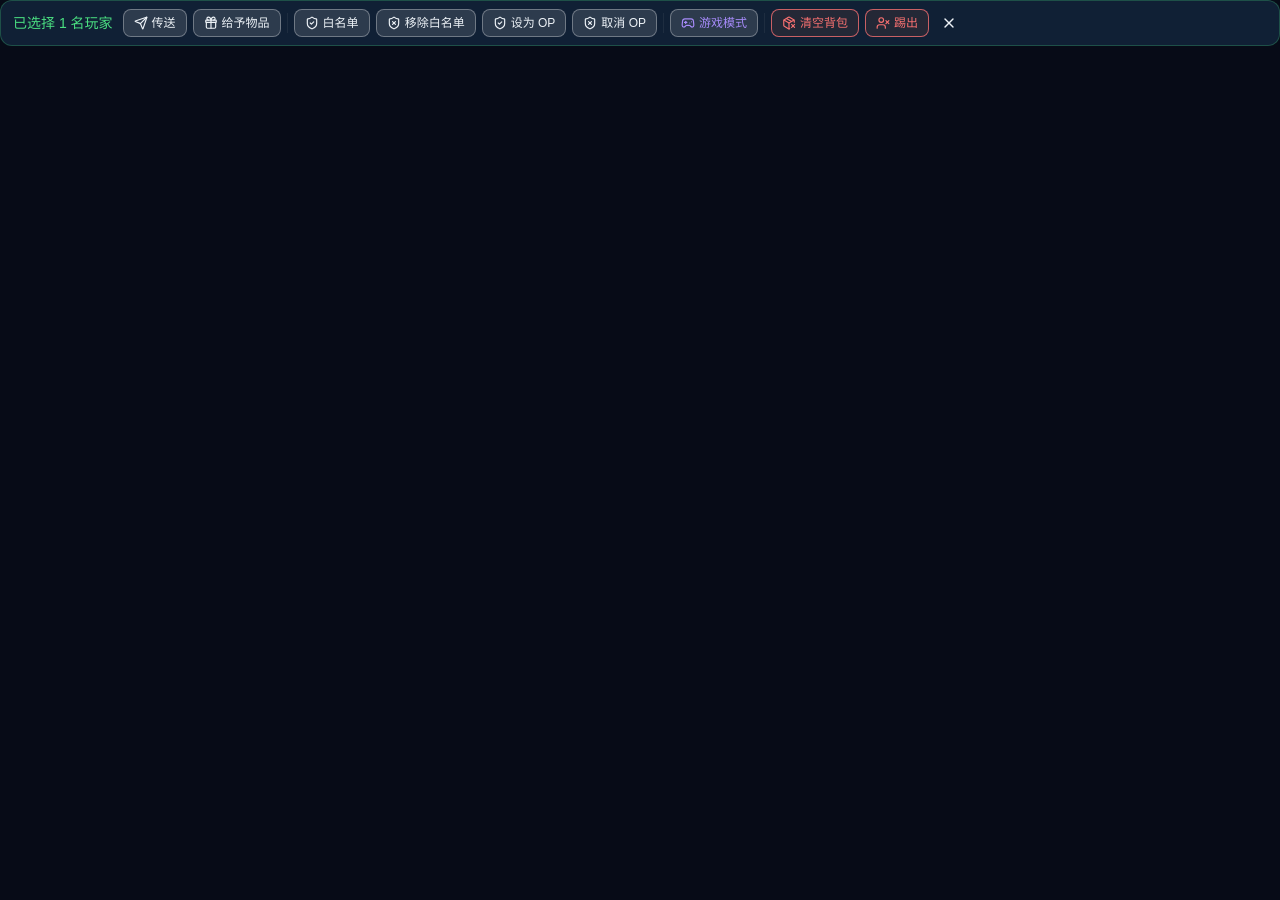
Test case: BatchBar › 全离线：不执行任何命令并提示所选玩家均已离线，无撤销入口
This screenshot has width=1280, height=900.
Click the button "踢出".
click(897, 23)  # box [865,9,929,37]
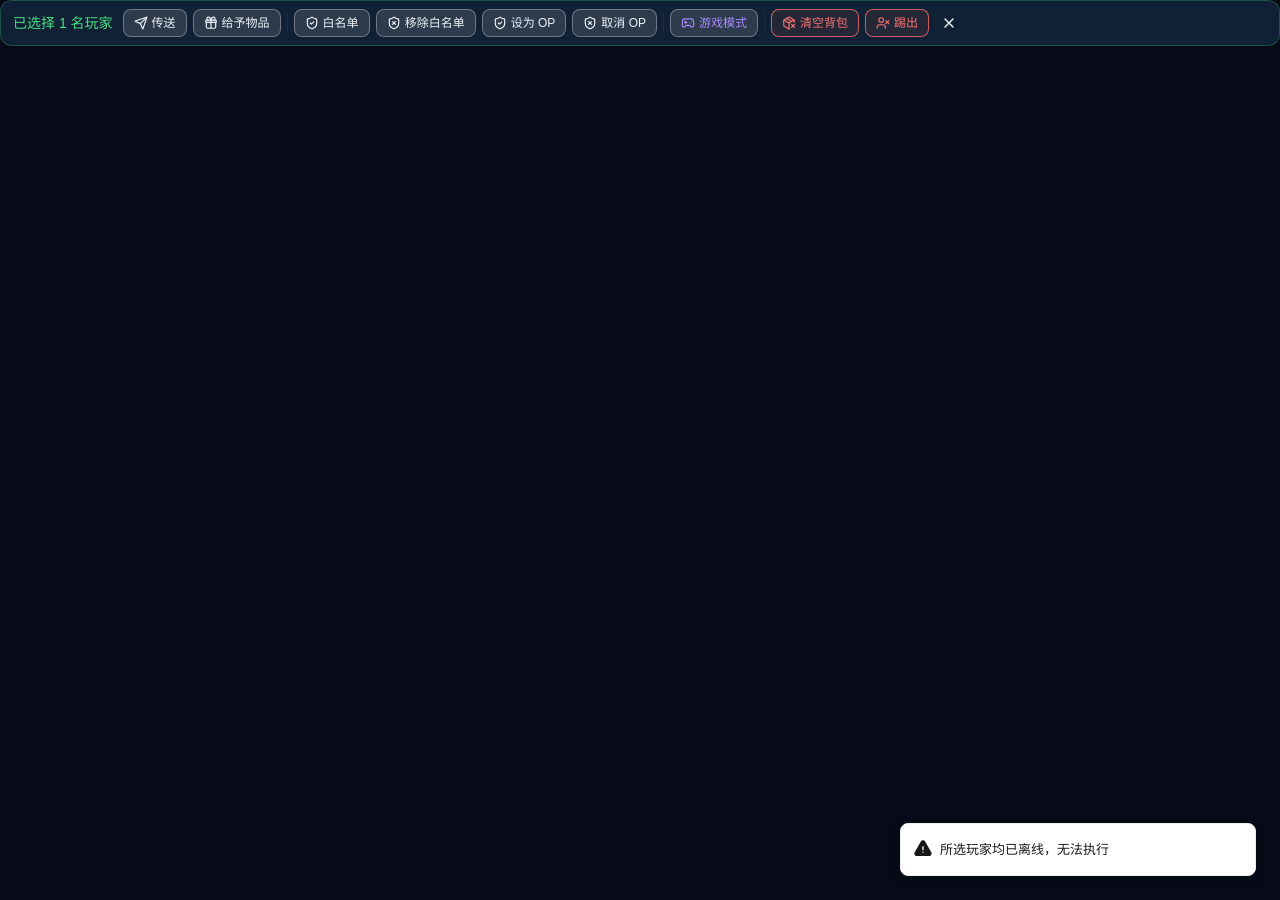
Expected: the text "所选玩家均已离线，无法执行" is shown, [940,840,1109,859]
